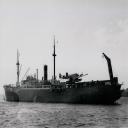Portanaves: (3, 35, 126, 108)
